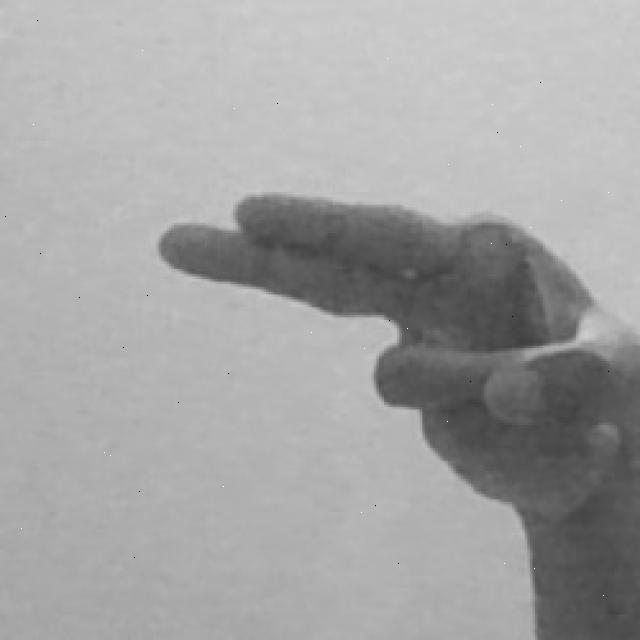H: (151, 183, 640, 640)
